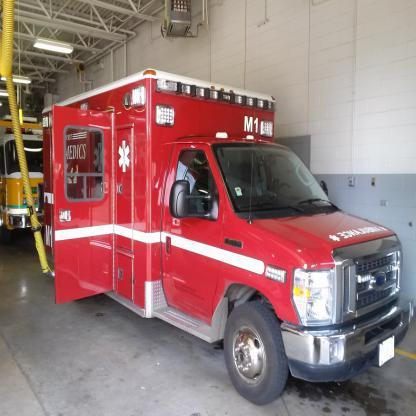Ambulance - v1 Ambulance last generate: (38, 66, 414, 406)
